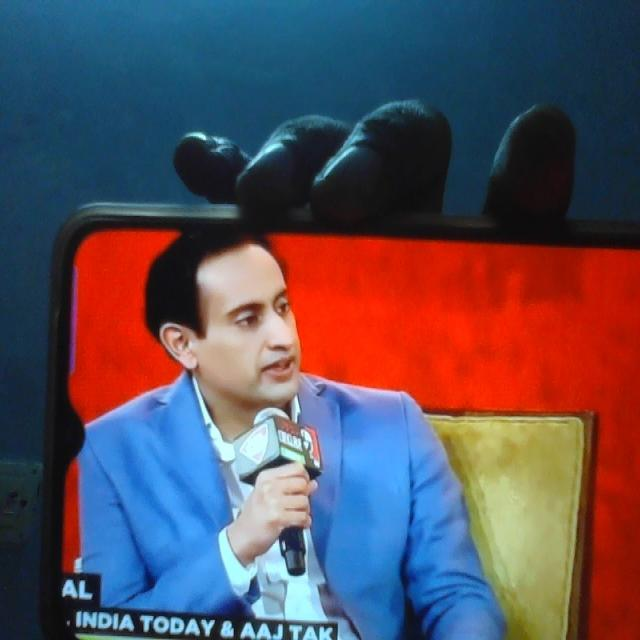fake: (181, 198, 302, 426)
